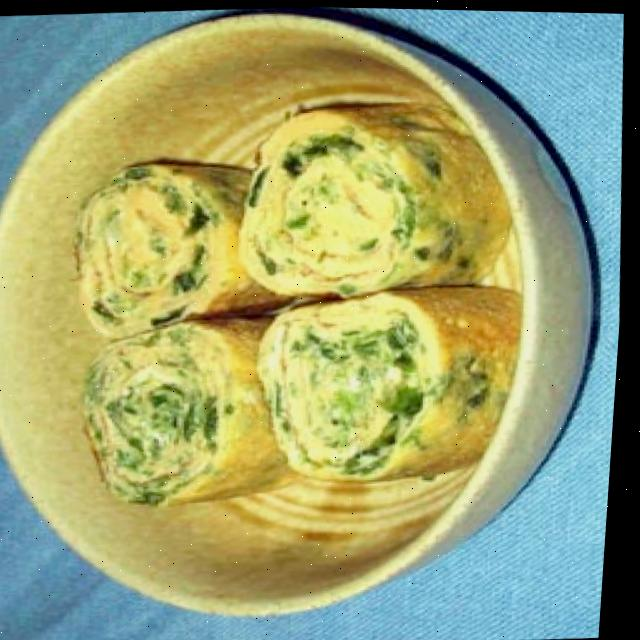鸡蛋料理: (35, 78, 551, 527)
